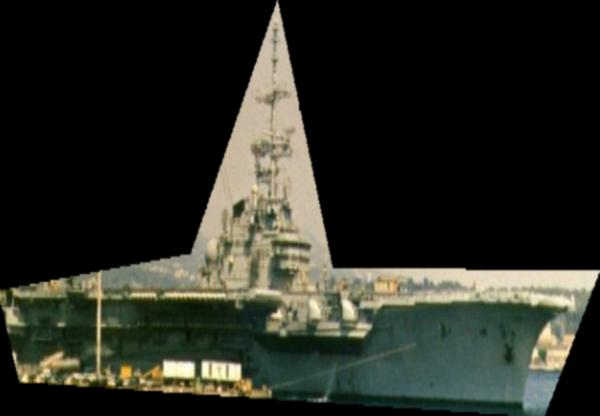Aircraft Carrier: (0, 1, 600, 416)
